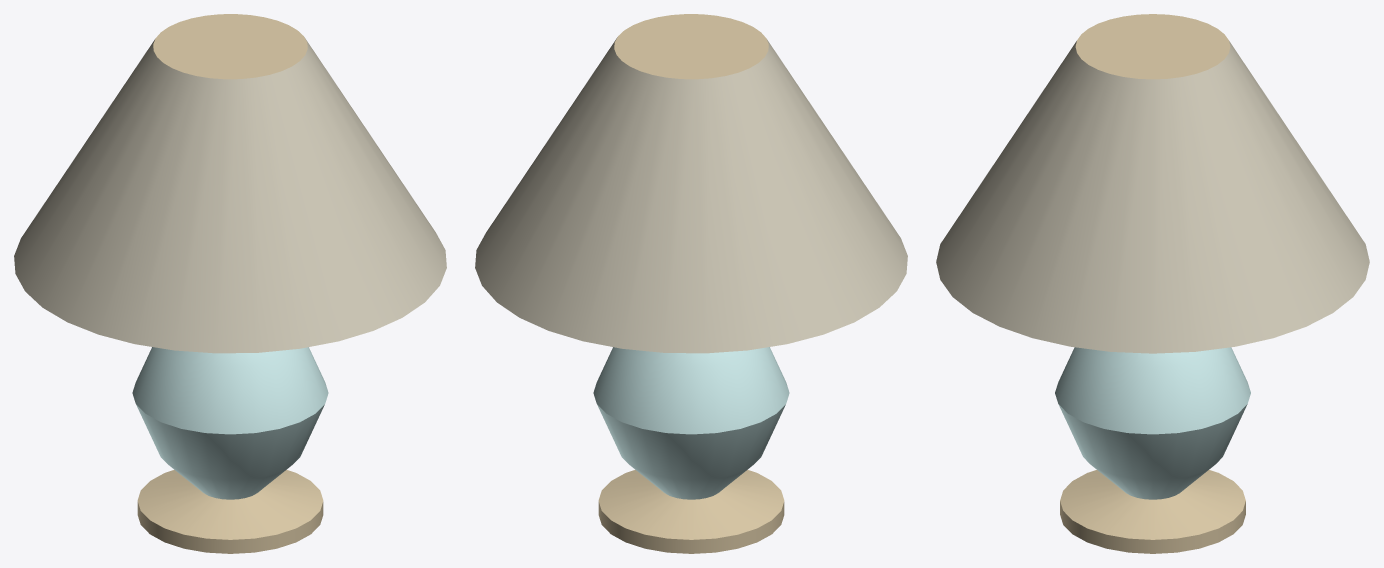
Rendered from KC32__AD_Int_Lamp_Table.glb.
The picture shows the model from 3 angles, left to right: view 1: azimuth 30°, elevation 25°; view 2: azimuth 150°, elevation 25°; view 3: azimuth 270°, elevation 25°; orthographic projection.
Parts seen in each view (by area): view 1: KC32_LUMIERE__AD_Int_Lamp_Table, KC32_VITRAGE__AD_Int_Lamp_Table, KC32_BRONZE__AD_Int_Lamp_Table; view 2: KC32_LUMIERE__AD_Int_Lamp_Table, KC32_VITRAGE__AD_Int_Lamp_Table, KC32_BRONZE__AD_Int_Lamp_Table; view 3: KC32_LUMIERE__AD_Int_Lamp_Table, KC32_VITRAGE__AD_Int_Lamp_Table, KC32_BRONZE__AD_Int_Lamp_Table.
Part boxes in pixels (bbox=[...]): KC32_LUMIERE__AD_Int_Lamp_Table: bbox=[14, 37, 446, 353]; KC32_VITRAGE__AD_Int_Lamp_Table: bbox=[132, 347, 328, 499]; KC32_BRONZE__AD_Int_Lamp_Table: bbox=[137, 14, 323, 553]; KC32_LUMIERE__AD_Int_Lamp_Table: bbox=[475, 37, 907, 353]; KC32_VITRAGE__AD_Int_Lamp_Table: bbox=[593, 347, 789, 499]; KC32_BRONZE__AD_Int_Lamp_Table: bbox=[598, 14, 784, 553]; KC32_LUMIERE__AD_Int_Lamp_Table: bbox=[936, 41, 1369, 353]; KC32_VITRAGE__AD_Int_Lamp_Table: bbox=[1055, 347, 1250, 499]; KC32_BRONZE__AD_Int_Lamp_Table: bbox=[1060, 14, 1245, 553].
Bounding box in the file's own units: 0.42 × 0.5 × 0.42.
